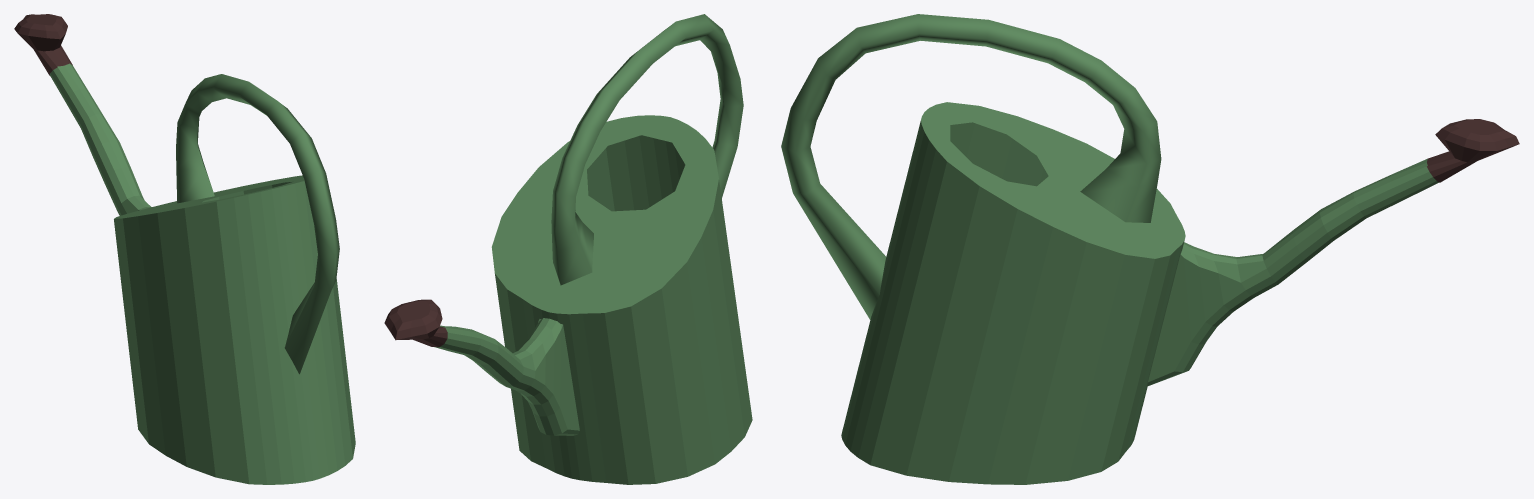
Rendered from Water_Can.fbx.
3 renders of one model, left to right at view 1: azimuth 30°, elevation 25°; view 2: azimuth 150°, elevation 25°; view 3: azimuth 270°, elevation 25°, orthographic. The views are drawn at different scales.
Parts seen in each view (by area): view 1: Cylinder, BezierCurve, BezierCurve.001, BezierCurve.002; view 2: Cylinder, BezierCurve, BezierCurve.001, BezierCurve.002; view 3: Cylinder, BezierCurve, BezierCurve.001, BezierCurve.002.
Part boxes in pixels (x1,y1,x2,y2): Cylinder: [114, 175, 355, 484]; BezierCurve: [176, 74, 339, 374]; BezierCurve.001: [50, 63, 151, 215]; BezierCurve.002: [14, 14, 72, 75]; Cylinder: [491, 115, 752, 484]; BezierCurve: [551, 14, 743, 285]; BezierCurve.001: [434, 318, 579, 435]; BezierCurve.002: [384, 299, 447, 347]; Cylinder: [841, 102, 1185, 484]; BezierCurve: [781, 14, 1161, 319]; BezierCurve.001: [1147, 159, 1438, 386]; BezierCurve.002: [1427, 119, 1519, 182].
Size of the model in its own units: 159 by 315 by 503.
